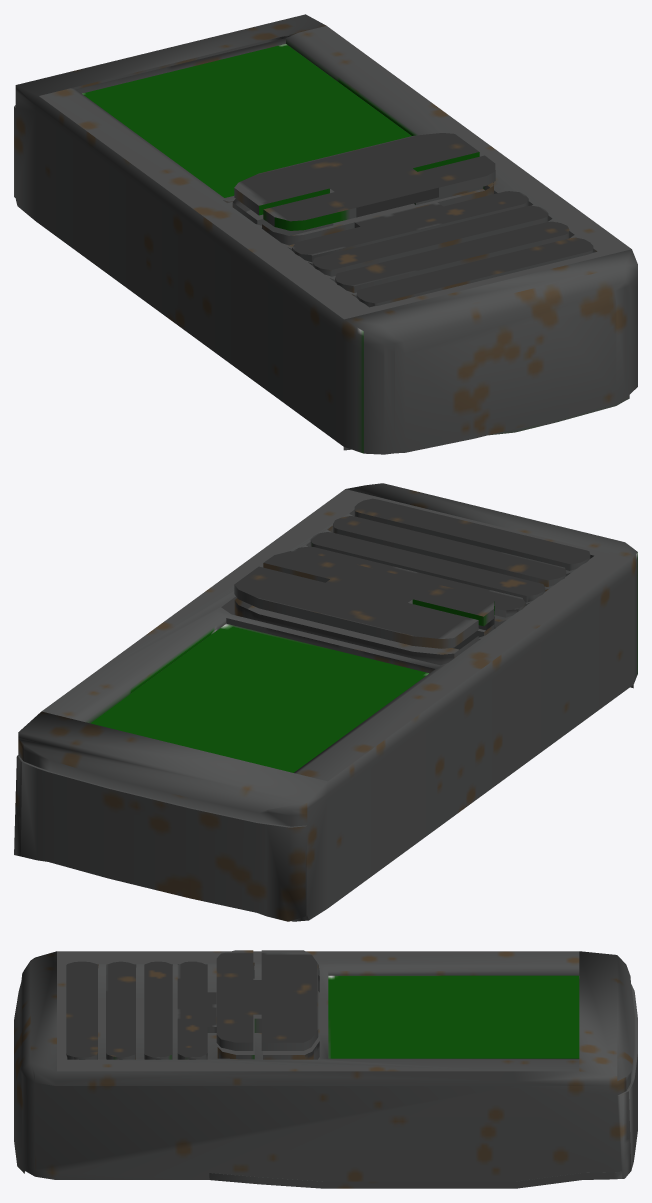
The model's file is sonyericcsonmodel.fbx.
3 views of the same model, one above another, from view 1: azimuth 30°, elevation 25°; view 2: azimuth 150°, elevation 25°; view 3: azimuth 270°, elevation 25° (orthographic). The views are drawn at different scales.
Visible parts, largest first — view 1: phone, press; view 2: phone, press; view 3: phone, press.
Part boxes in pixels (x1,y1,x2,y2): phone: (14,14,637,454); press: (234,133,495,230); phone: (14,483,637,921); press: (234,551,494,648); phone: (14,951,637,1188); press: (216,950,318,1050).
Bounding box in the file's own units: 77.67 × 39.43 × 169.
